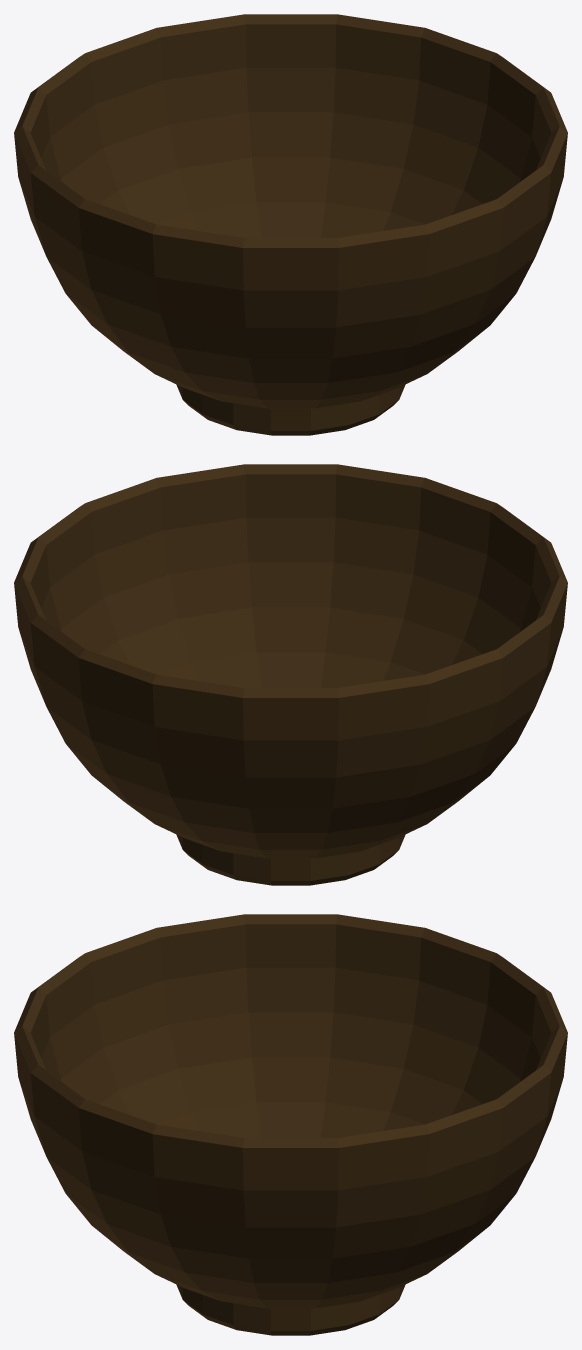
Rendered from Bowl_v001.fbx.
3 renders of one model, top to bottom at view 1: azimuth 30°, elevation 25°; view 2: azimuth 150°, elevation 25°; view 3: azimuth 270°, elevation 25°, orthographic.
Visible parts, largest first — view 1: Sphere; view 2: Sphere; view 3: Sphere.
Boxes of the visible parts, x1=… form: Sphere: x1=14, y1=14, x2=567, y2=435; Sphere: x1=14, y1=464, x2=567, y2=885; Sphere: x1=14, y1=914, x2=567, y2=1335.
Size of the model in its own units: 197 by 105 by 200.
